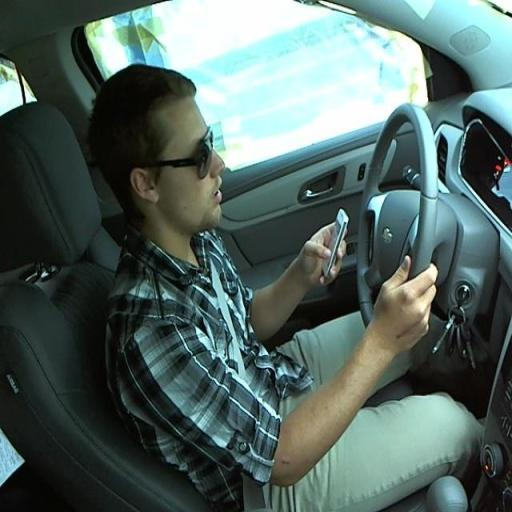texting_phone: (94, 86, 442, 456)
